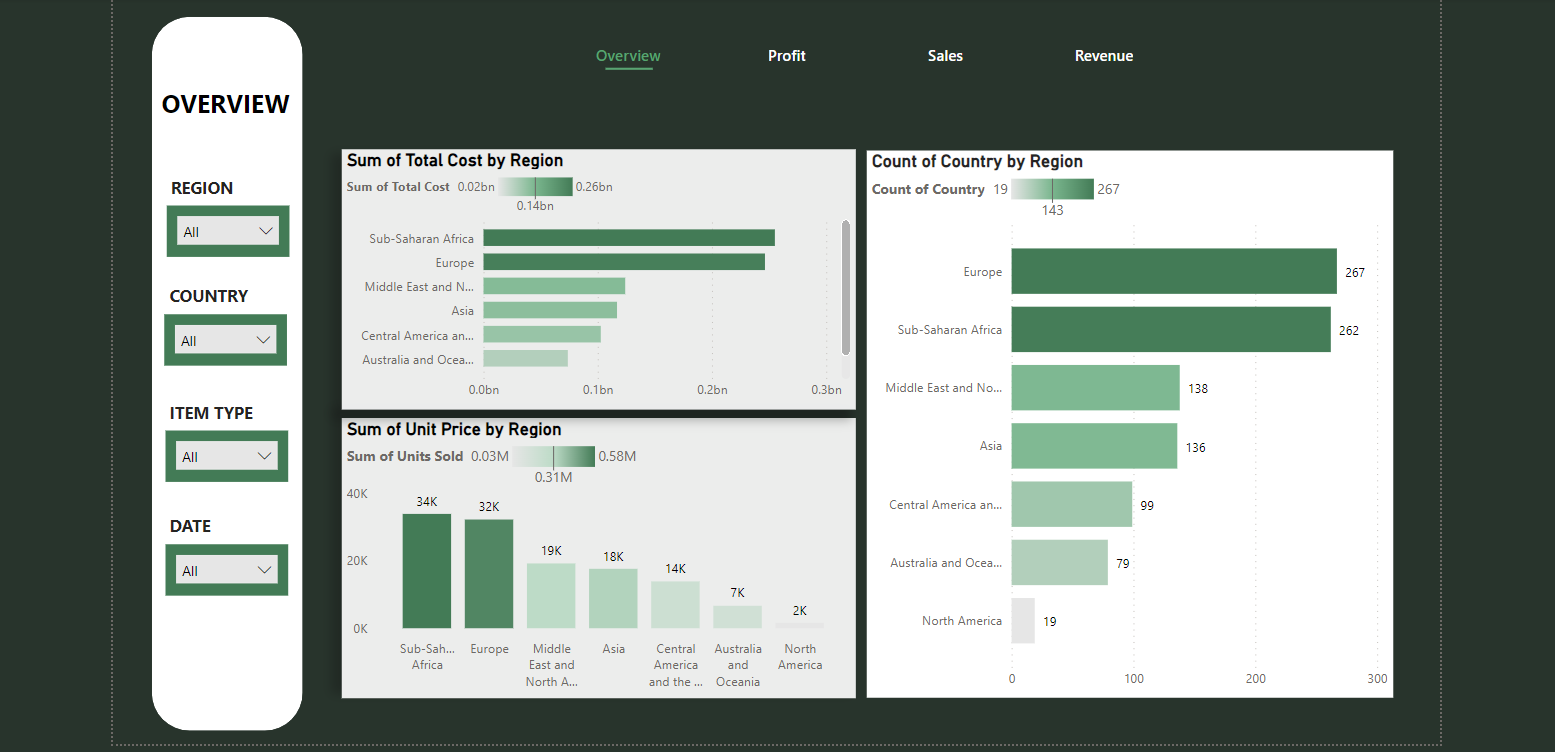

The dashboard page shown, as its layout file describes it:
{"tool":"powerbi","page":{"name":"Overview","canvas":[1280,720],"ordinal":0},"visuals":[{"type":"shape","box":[37.4,18.1,145.9,688.6],"z":0},{"type":"pageNavigator","box":[425.7,38.6,604.2,32.6],"z":1000},{"type":"shape","box":[475.2,55.5,45.8,25.3],"z":2000},{"type":"textbox","box":[50.7,166.4,94.1,33.8],"z":3000},{"type":"textbox","box":[49.4,271.4,94.1,33.8],"z":4000},{"type":"textbox","box":[49.4,383.5,117,33.8],"z":5000},{"type":"textbox","box":[1.2,80.8,214.7,42.2],"z":6000},{"type":"columnChart","title":"Sum of Unit Price by Region","fields":{"Category":["1000 Sales Records.Region"],"Y":["Sum(1000 Sales Records.Unit Price)"]},"box":[220.7,405.2,495.7,270.2],"z":7000},{"type":"barChart","title":"Sum of Total Cost by Region","fields":{"Category":["1000 Sales Records.Region"],"Y":["Sum(1000 Sales Records.Total Cost)"]},"box":[220.7,145.9,495.7,250.9],"z":8000},{"type":"slicer","fields":{"Values":["1000 Sales Records.Region"]},"box":[51.9,200.2,118.2,49.4],"z":9000},{"type":"slicer","fields":{"Values":["1000 Sales Records.Country"]},"box":[49.5,305.6,118,49.4],"z":10000},{"type":"slicer","fields":{"Values":["1000 Sales Records.Item Type"]},"box":[50.9,416.7,118,49.4],"z":11000},{"type":"slicer","fields":{"Values":["Date.Date"]},"box":[50.9,526.5,118,49.4],"z":12000},{"type":"textbox","box":[49.4,493.3,117,33.8],"z":13000},{"type":"barChart","fields":{"Category":["1000 Sales Records.Region"],"Y":["CountNonNull(1000 Sales Records.Country)"]},"box":[727.3,146.8,507.7,528.3],"z":14000}]}

Visuals, with their boxes in screenshot pixels (x1, y1, x2, y2):
shape: (148,15,298,725)
pageNavigator: (549,36,1172,69)
shape: (600,53,647,79)
textbox: (162,168,259,202)
textbox: (160,276,257,311)
textbox: (160,392,281,426)
textbox: (111,79,332,123)
"Sum of Unit Price by Region" columnChart: (337,414,848,693)
"Sum of Total Cost by Region" barChart: (337,146,848,405)
slicer - 1000 Sales Records.Region: (163,202,285,253)
slicer - 1000 Sales Records.Country: (160,311,282,362)
slicer - 1000 Sales Records.Item Type: (162,426,284,477)
slicer - Date.Date: (162,539,284,590)
textbox: (160,505,281,540)
barChart - 1000 Sales Records.Region x CountNonNull(1000 Sales Records.Country): (860,147,1383,692)
